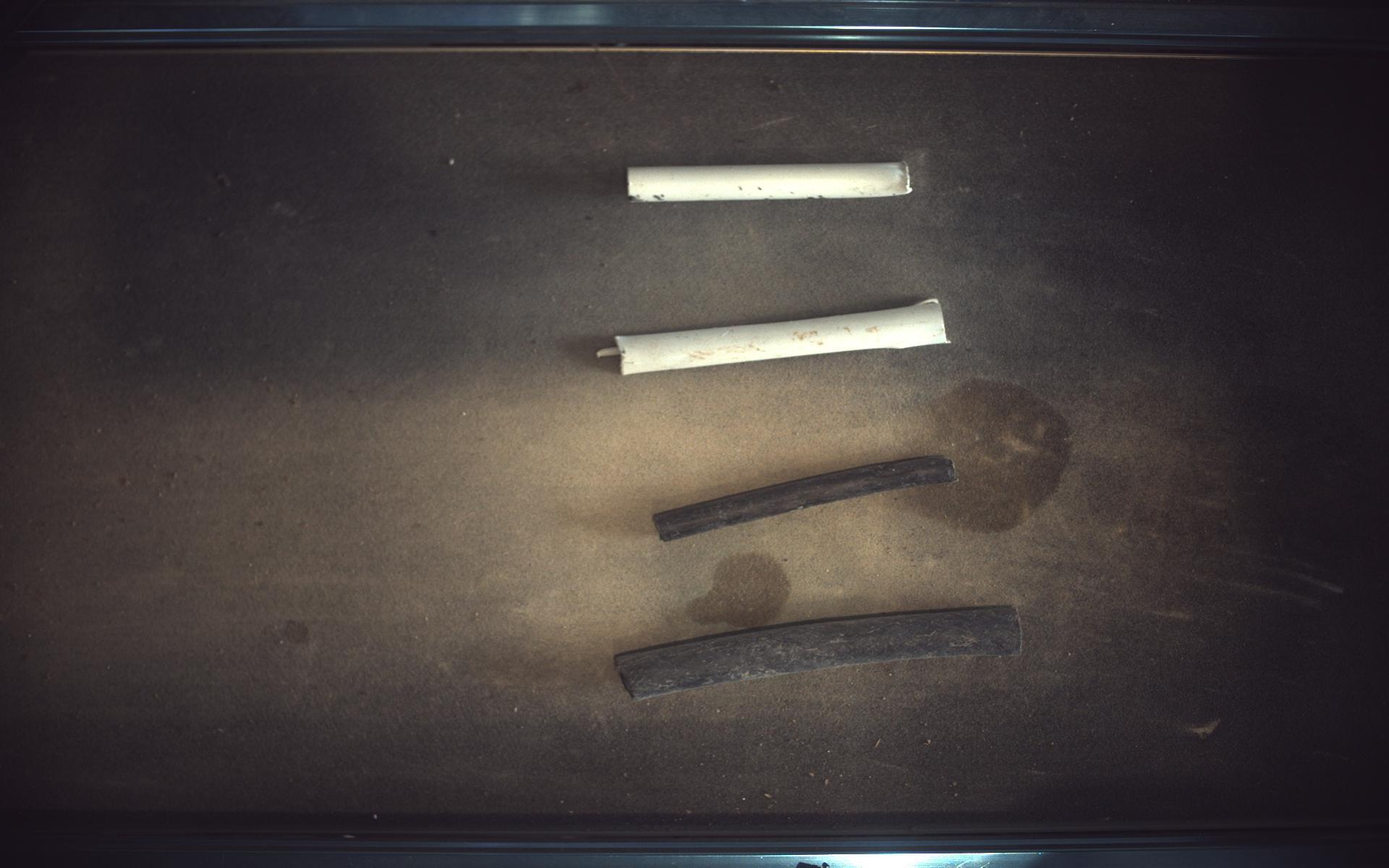pipes: (616, 607, 1023, 701), (654, 456, 958, 542), (616, 298, 951, 375), (629, 161, 914, 201)
